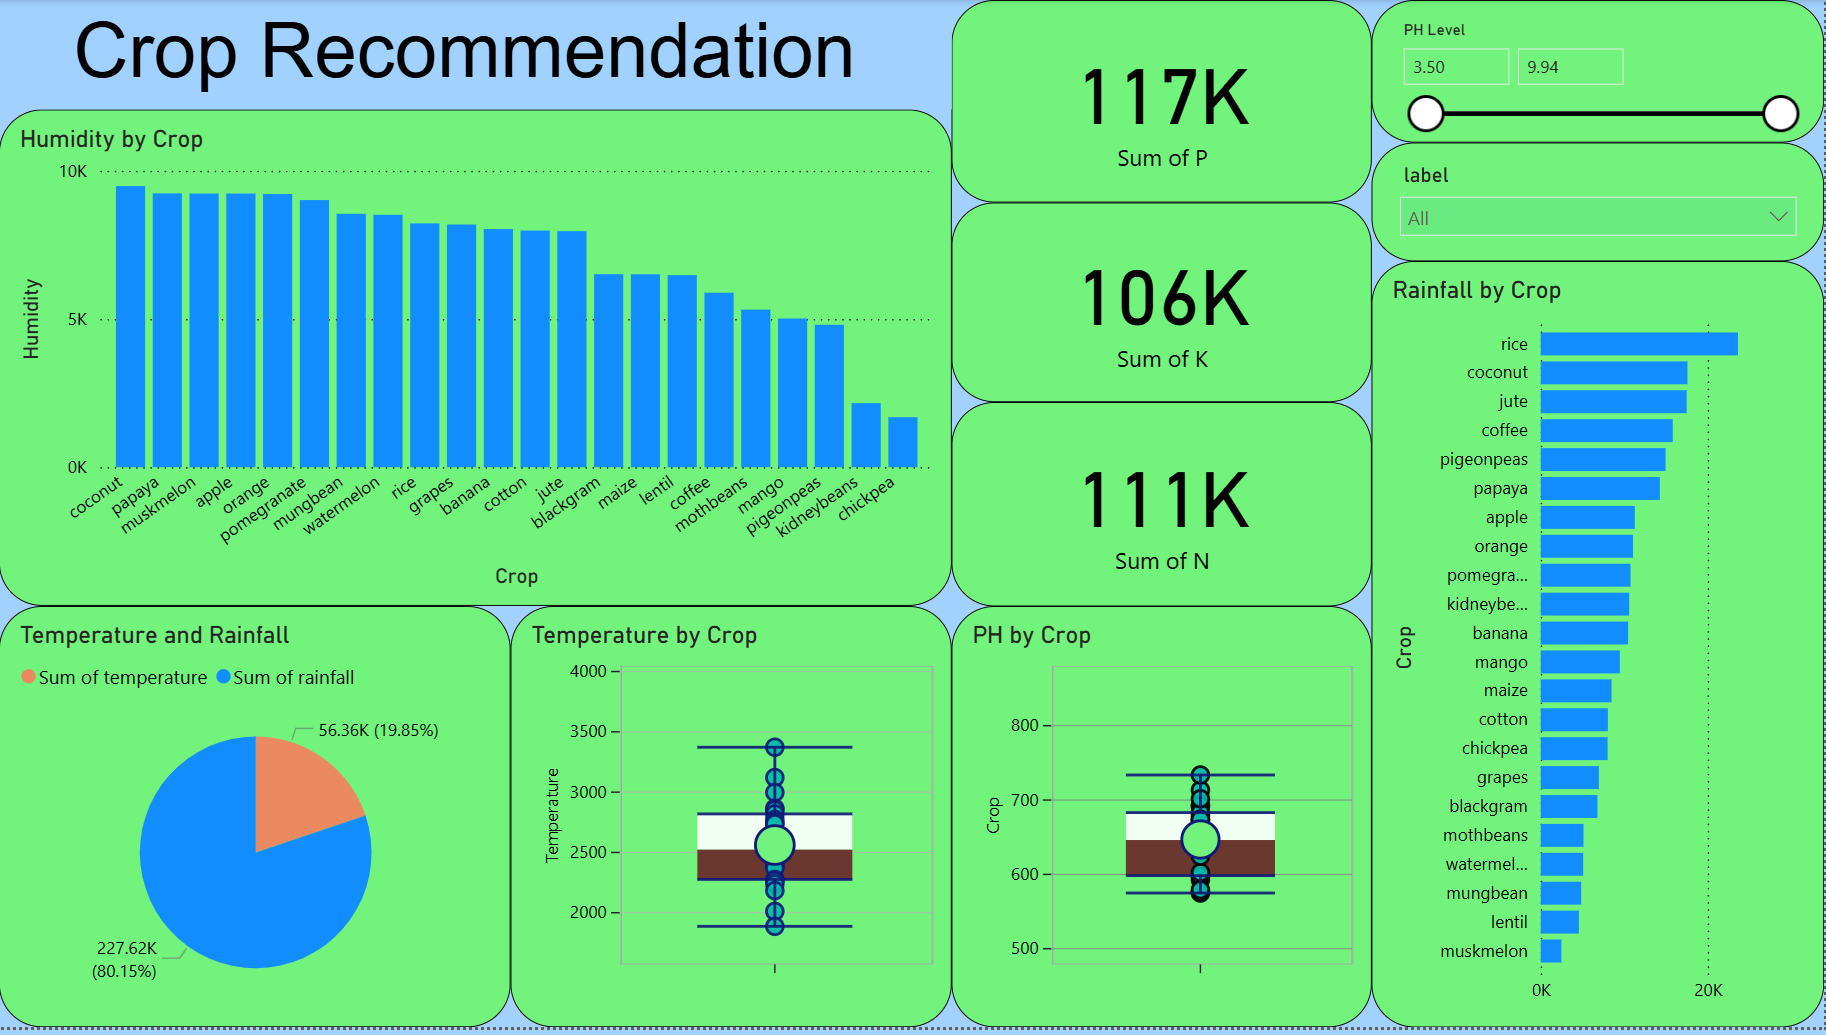

The dashboard page shown, as its layout file describes it:
{"tool":"powerbi","page":{"name":"Crop Analysis","canvas":[1280,720],"ordinal":0},"visuals":[{"type":"BoxandWhiskerByMAQ1823AD39DT234AB532063E128AX","fields":{"category":["Crop_recommendation.label"],"measure":["Sum(Crop_recommendation.temperature)"]},"box":[10.4,88.1,332.6,309.4],"z":0},{"type":"clusteredBarChart","fields":{"Category":["Crop_recommendation.label"],"Y":["Sum(Crop_recommendation.rainfall)"]},"box":[10.4,407.9,332.6,309.4],"z":3},{"type":"pieChart","fields":{"Y":["Sum(Crop_recommendation.temperature)","Sum(Crop_recommendation.rainfall)"]},"box":[353.4,406.7,331.4,309.4],"z":4},{"type":"clusteredColumnChart","fields":{"Category":["Crop_recommendation.label"],"Y":["Sum(Crop_recommendation.humidity)"]},"box":[701,406.7,331.4,309.4],"z":5},{"type":"slicer","fields":{"Values":["Crop_recommendation.label"]},"box":[1032.4,13.9,239.9,112.4],"z":6},{"type":"card","fields":{"Values":["Sum(Crop_recommendation.N)"]},"box":[776.4,268.8,239.9,112.4],"z":7},{"type":"card","fields":{"Values":["Sum(Crop_recommendation.P)"]},"box":[776.4,13.9,239.9,112.4],"z":8},{"type":"card","fields":{"Values":["Sum(Crop_recommendation.K)"]},"box":[776.4,142.5,239.9,111.2],"z":9},{"type":"slicer","fields":{"Values":["Crop_recommendation.ph"]},"box":[1033.6,142.5,239.9,111.2],"z":10},{"type":"BoxandWhiskerByMAQ1823AD39DT234AB532063E128AX","fields":{"category":["Crop_recommendation.label"],"measure":["Sum(Crop_recommendation.ph)"]},"box":[353.4,88.1,331.4,309.4],"z":11},{"type":"textbox","box":[0,0,464.7,88.1],"z":12}]}

Visuals, with their boxes in screenshot pixels (x1, y1, x2, y2), scaled from the page's 1280x720 canvas onto the 1826x1035 screenshot:
BoxandWhiskerByMAQ1823AD39DT234AB532063E128AX - Crop_recommendation.label x Sum(Crop_recommendation.temperature): region(15, 127, 489, 571)
clusteredBarChart - Crop_recommendation.label x Sum(Crop_recommendation.rainfall): region(15, 586, 489, 1031)
pieChart - Sum(Crop_recommendation.temperature) x Sum(Crop_recommendation.rainfall): region(504, 585, 977, 1029)
clusteredColumnChart - Crop_recommendation.label x Sum(Crop_recommendation.humidity): region(1000, 585, 1473, 1029)
slicer - Crop_recommendation.label: region(1473, 20, 1815, 182)
card - Sum(Crop_recommendation.N): region(1108, 386, 1450, 548)
card - Sum(Crop_recommendation.P): region(1108, 20, 1450, 182)
card - Sum(Crop_recommendation.K): region(1108, 205, 1450, 365)
slicer - Crop_recommendation.ph: region(1474, 205, 1817, 365)
BoxandWhiskerByMAQ1823AD39DT234AB532063E128AX - Crop_recommendation.label x Sum(Crop_recommendation.ph): region(504, 127, 977, 571)
textbox: region(0, 0, 663, 127)
